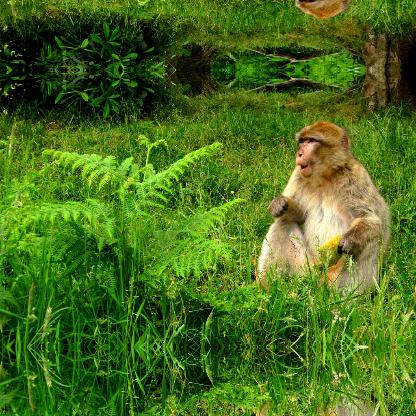Monkey: (260, 116, 390, 298)
